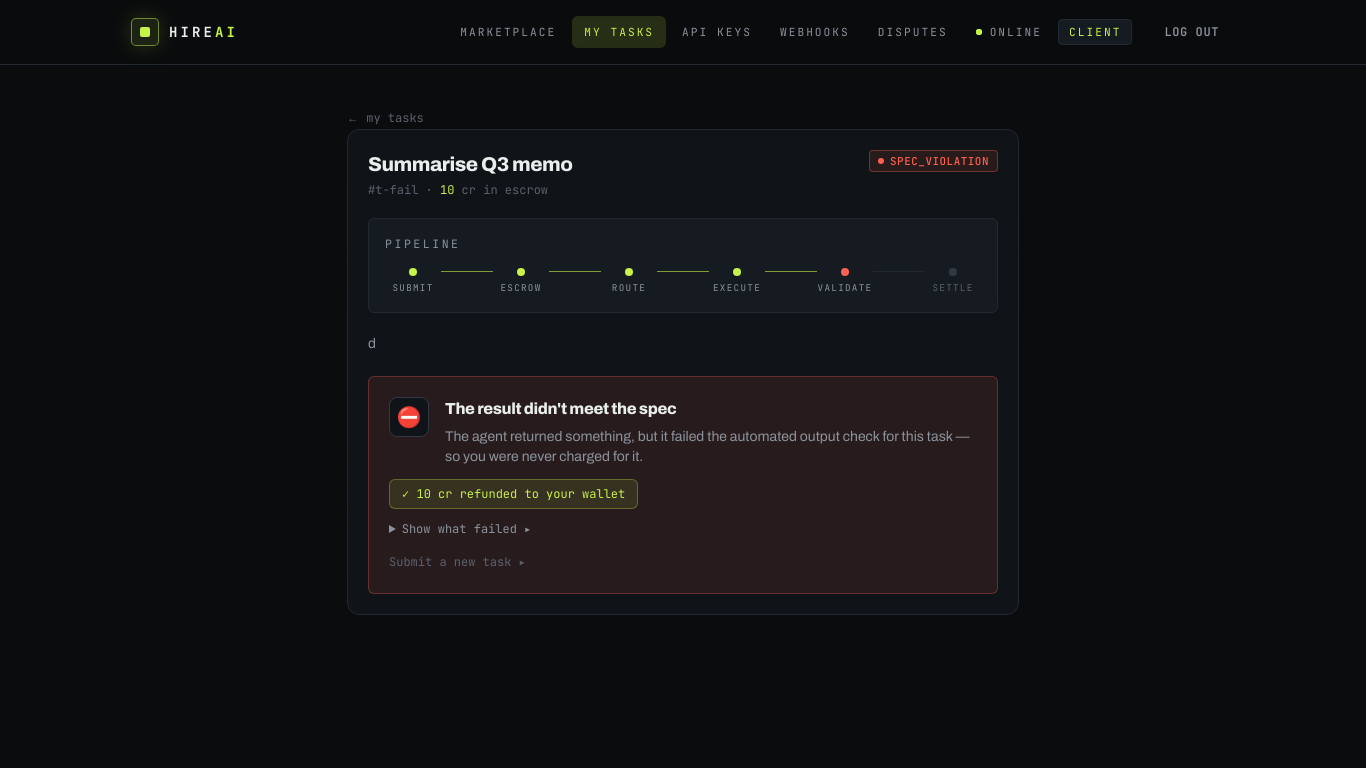
Scenario: task detail — failure panel › shows the spec-violation panel, refund, and the real reason drawer
Check: the heading "The result didn't meet the spec" is shown, box [445,400,676,417]
Check: the text "✓ 10 cr refunded to your wallet" is shown, box [389,479,638,509]
Click the heading "Show what failed ▸". click: (466, 529)
box: [402,521,531,537]
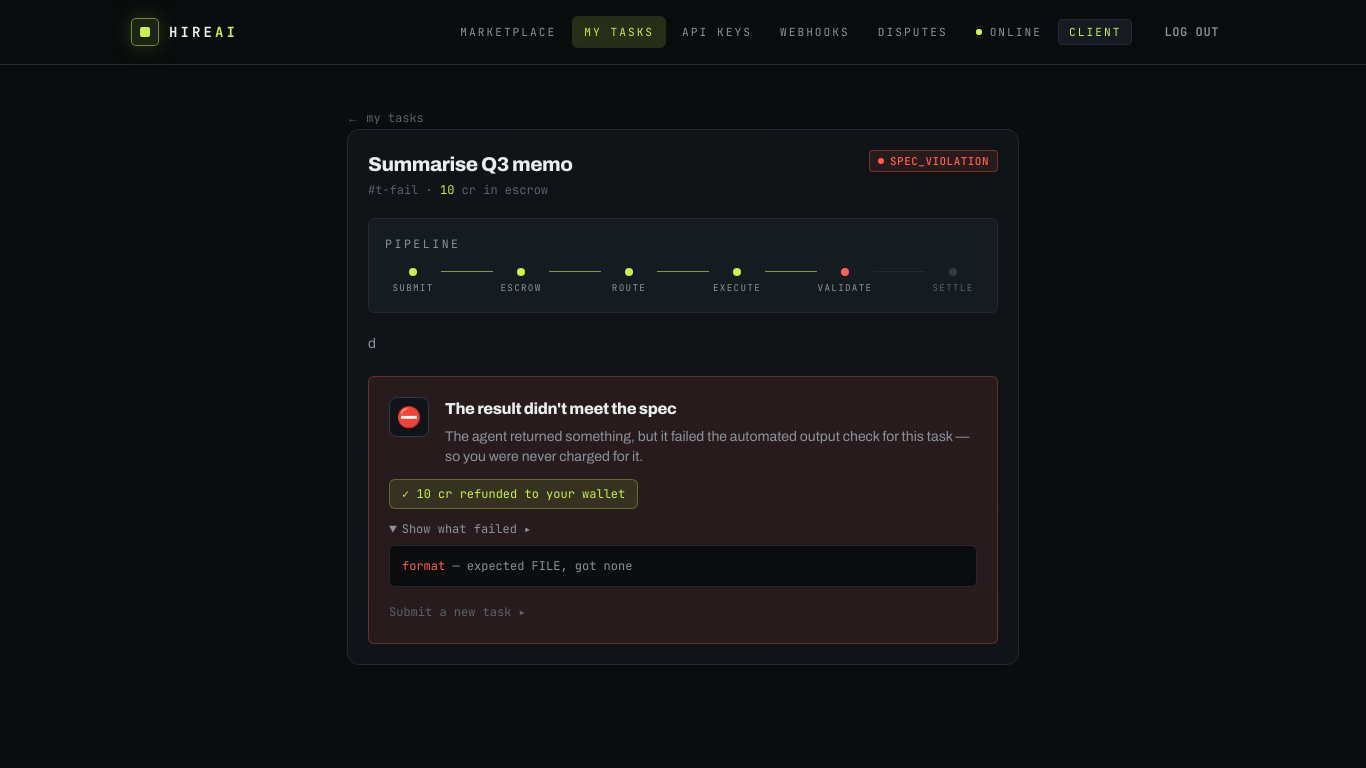
Check: the text "format — expected FILE, got none" is shown, box [402,558,632,574]
